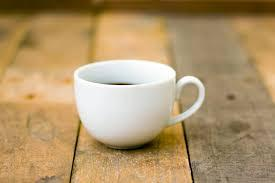cup: (74, 60, 204, 148)
